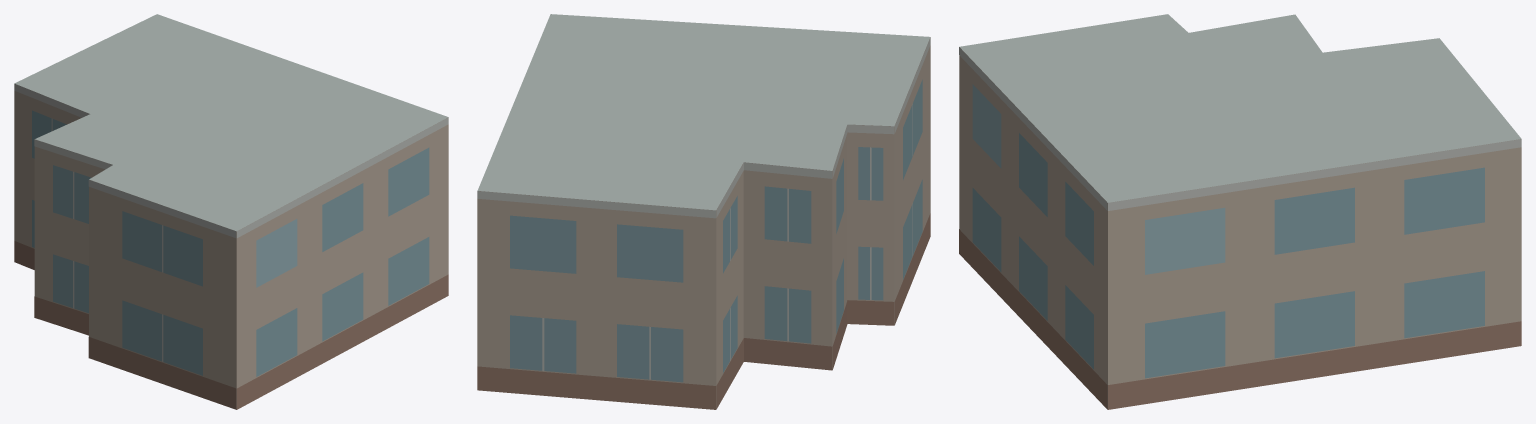
Rendered from survey-upis-32833637.glb.
The picture shows the model from 3 angles, left to right: view 1: azimuth 30°, elevation 25°; view 2: azimuth 150°, elevation 25°; view 3: azimuth 270°, elevation 25°; orthographic projection. The views are drawn at different scales.
Parts seen in each view (by area): view 1: survey-upis-32833637.tmp; view 2: survey-upis-32833637.tmp; view 3: survey-upis-32833637.tmp.
Part boxes in pixels (bbox=[...]): survey-upis-32833637.tmp: bbox=[14, 14, 448, 409]; survey-upis-32833637.tmp: bbox=[477, 14, 930, 409]; survey-upis-32833637.tmp: bbox=[959, 14, 1521, 409].
Bounding box in the file's own units: 11.95 × 6.1 × 15.03.
